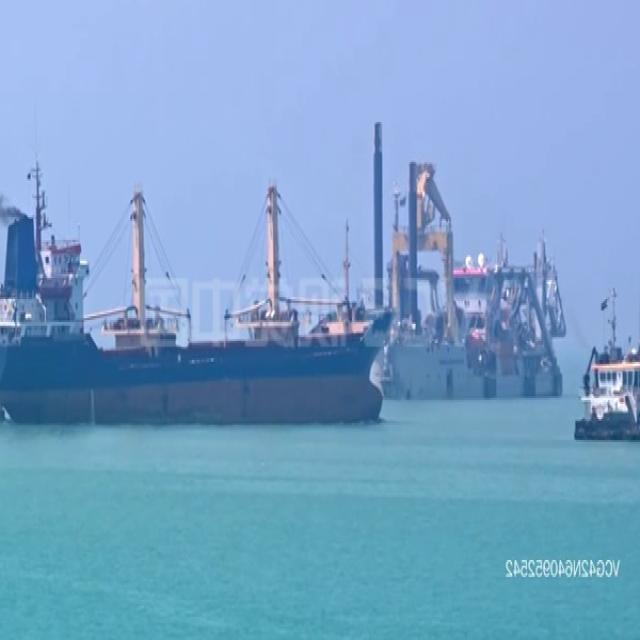cargoship: (0, 177, 389, 422), (352, 166, 576, 397)
passenger ship: (574, 324, 640, 440)
